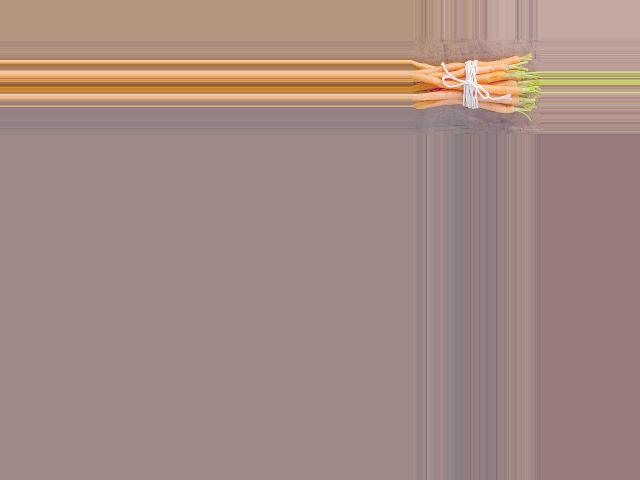carrot: (412, 101, 525, 116)
